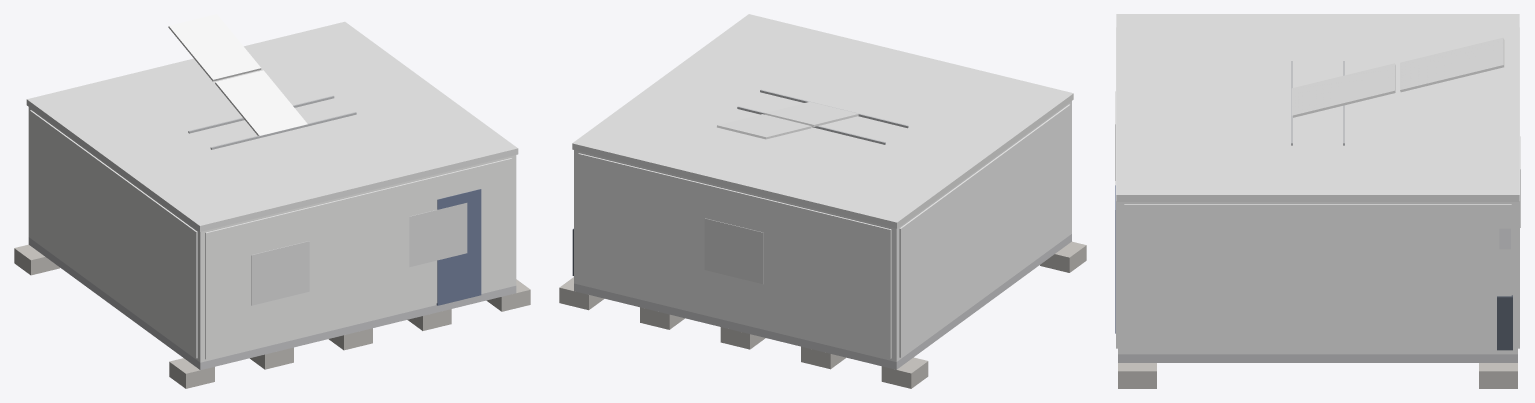
File: Studio-20-FullSolar-LOD0.glb
The picture shows the model from 3 angles, left to right: view 1: azimuth 30°, elevation 25°; view 2: azimuth 150°, elevation 25°; view 3: azimuth 270°, elevation 25°; orthographic projection. The views are drawn at different scales.
Parts seen in each view (by area): view 1: ExteriorPanelsStandard, RoofMain, SolarPanelArray, WindowsStandard, FoundationBlocks, ExteriorShell, BaseFrame, EntryDoor, SolarMountingHardware; view 2: ExteriorPanelsStandard, RoofMain, FoundationBlocks, ExteriorShell, BaseFrame, WindowsStandard, SolarPanelArray, SolarMountingHardware; view 3: RoofMain, ExteriorPanelsStandard, SolarPanelArray, ExteriorShell, BaseFrame, FoundationBlocks, SolarBattery.
Boxes of the visible parts, <box> form: ExteriorPanelsStandard: <box>30,110,512,359</box>; RoofMain: <box>26,21,518,231</box>; SolarPanelArray: <box>168,14,307,135</box>; WindowsStandard: <box>251,203,467,305</box>; FoundationBlocks: <box>14,244,530,388</box>; ExteriorShell: <box>28,107,516,362</box>; BaseFrame: <box>28,237,516,370</box>; EntryDoor: <box>436,189,481,305</box>; SolarMountingHardware: <box>188,95,356,149</box>; ExteriorPanelsStandard: <box>578,104,1070,358</box>; RoofMain: <box>572,14,1073,228</box>; FoundationBlocks: <box>559,241,1086,388</box>; ExteriorShell: <box>574,101,1071,361</box>; BaseFrame: <box>574,234,1071,369</box>; WindowsStandard: <box>704,218,763,284</box>; SolarPanelArray: <box>717,102,858,139</box>; SolarMountingHardware: <box>737,89,908,144</box>; RoofMain: <box>1116,14,1519,201</box>; ExteriorPanelsStandard: <box>1116,27,1519,352</box>; SolarPanelArray: <box>1291,37,1504,117</box>; ExteriorShell: <box>1118,202,1517,354</box>; BaseFrame: <box>1118,354,1517,362</box>; FoundationBlocks: <box>1118,363,1517,388</box>; SolarBattery: <box>1497,295,1512,350</box>.
Bounding box in the file's own units: 7.14 × 4.07 × 6.24.
